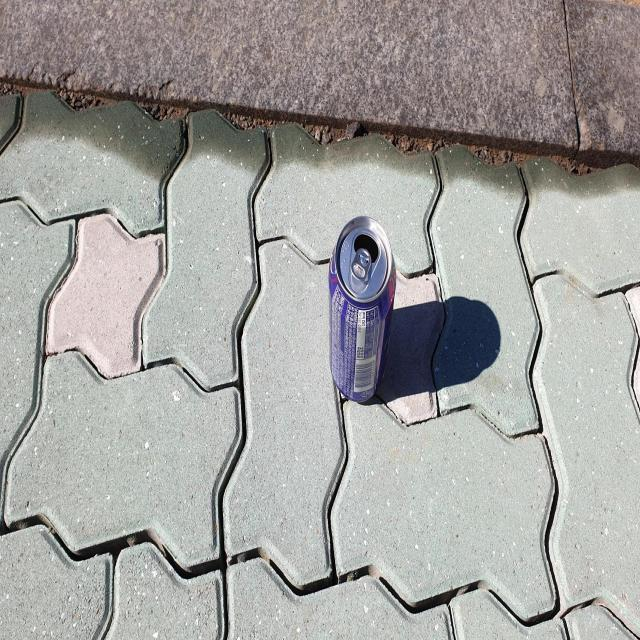can: (330, 215, 397, 401)
